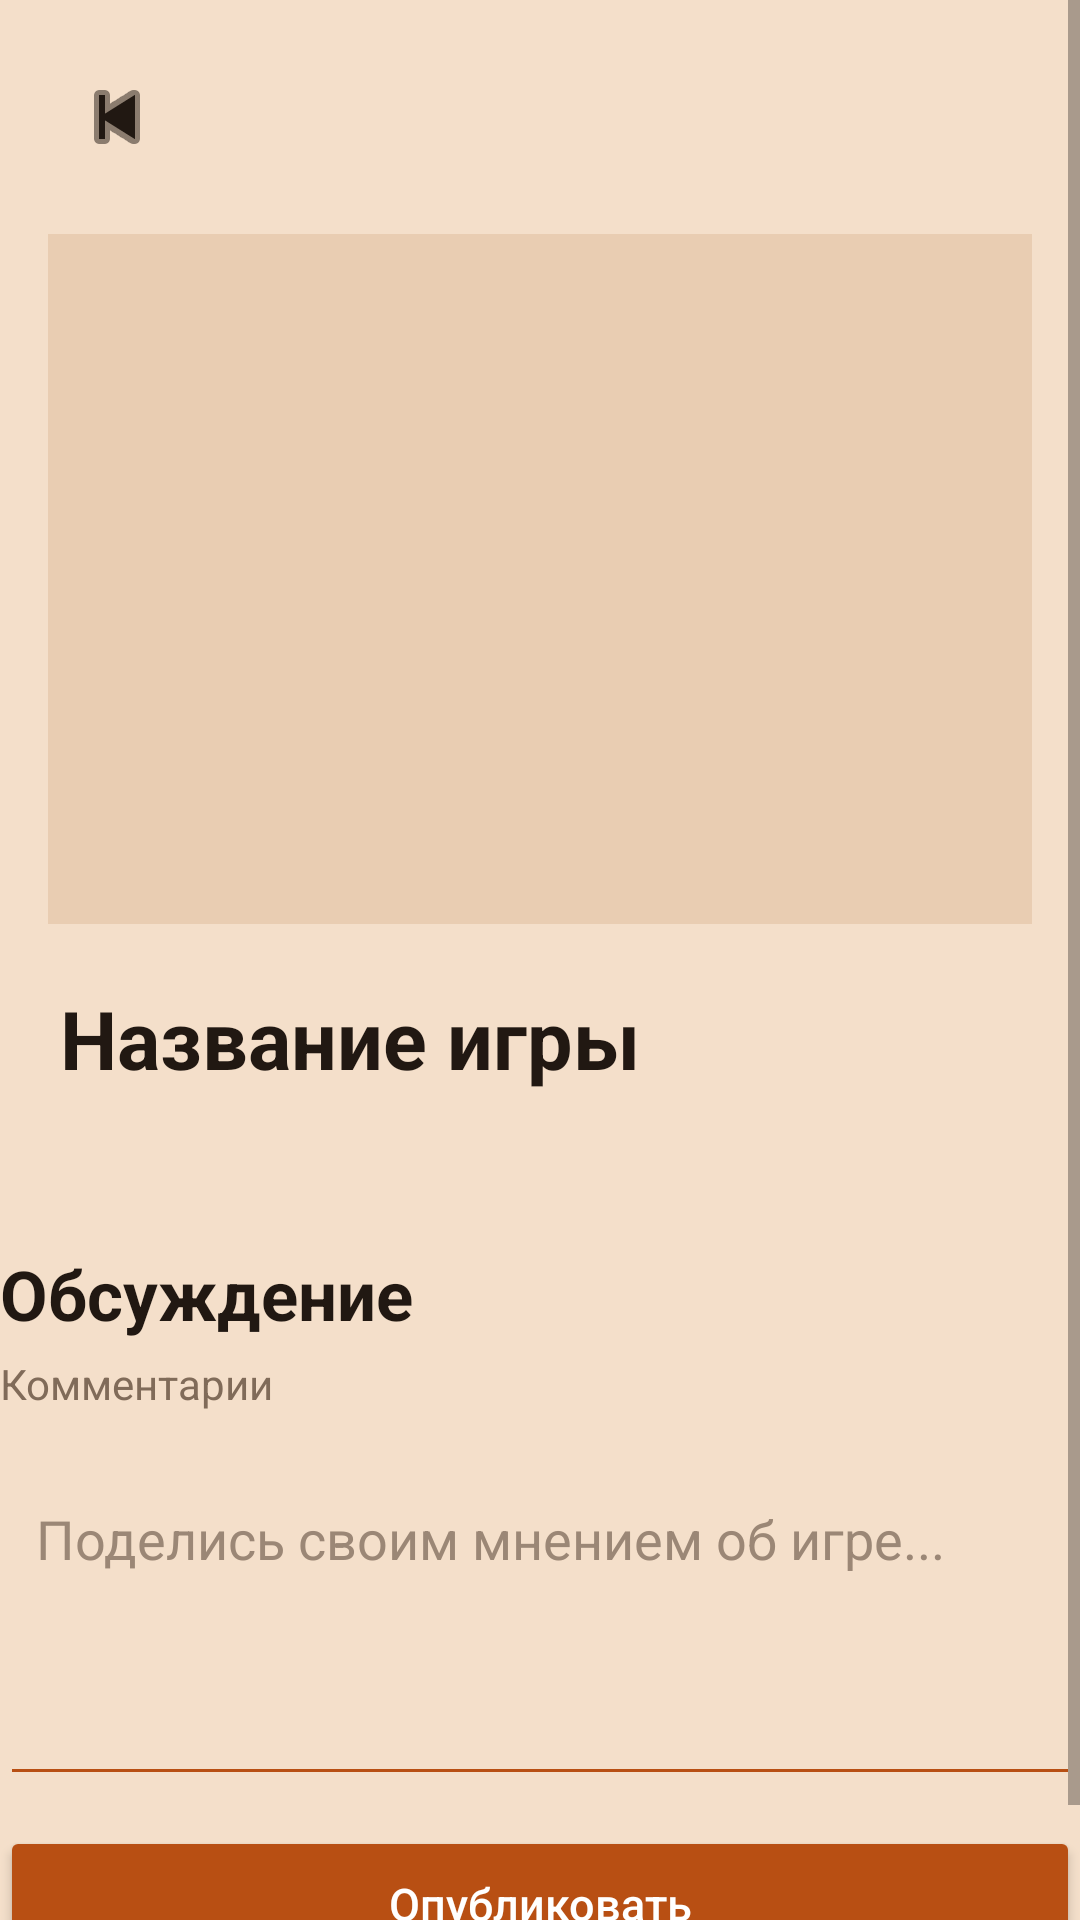

Where to tap for icons on this 1080w x 1920h app screen, as [x,y]:
Назад: [117,117]
